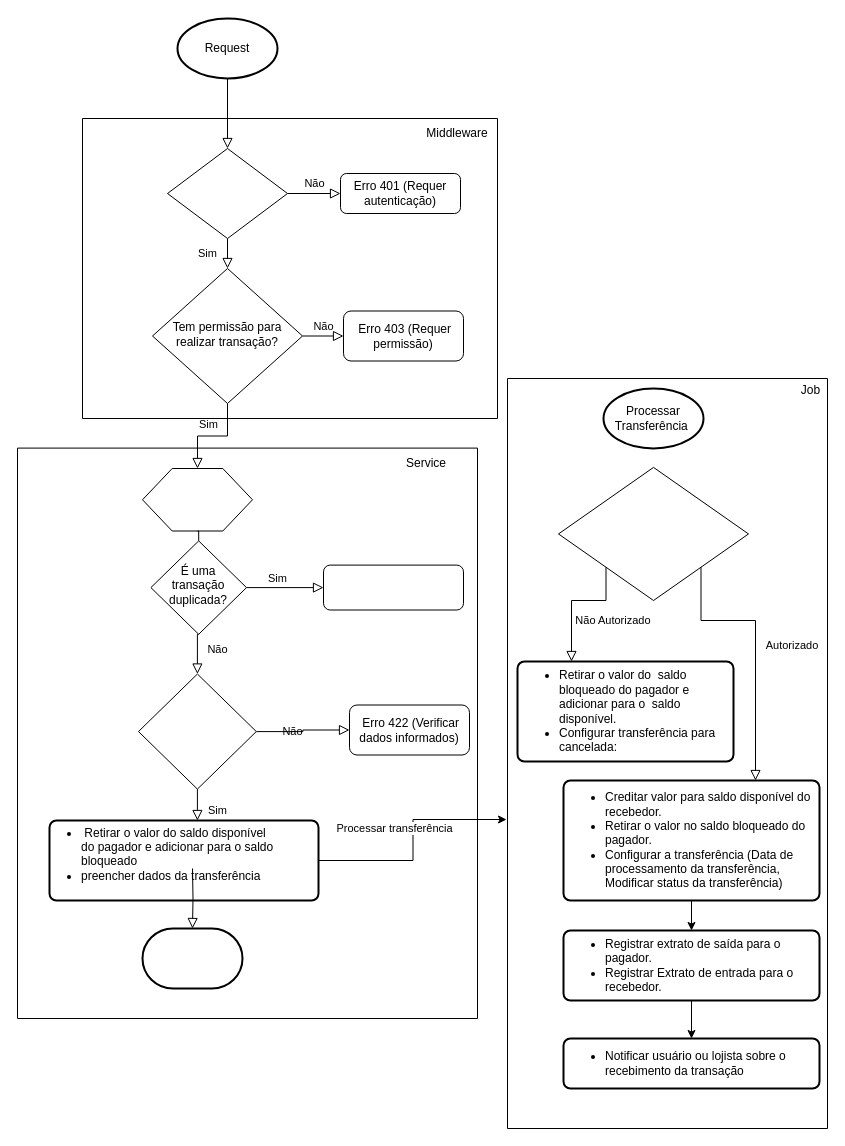
The diagram is 845 pixels wide and 1146 high, and some of its shapes have lost their labels. The centre of each missing label's shape, as x and y in pixels:
"Dados da transferência estão corretos?" belongs at [197,731].
"Erro 400 (Transferência duplicada)" belongs at [393,587].
"Retornar a transação" belongs at [192,958].
"Usuário está autenticado?" belongs at [227,193].
"Validar dados da transferência" belongs at [197,499].
"Verificar autorização para processar transfereência" belongs at [653,533].
